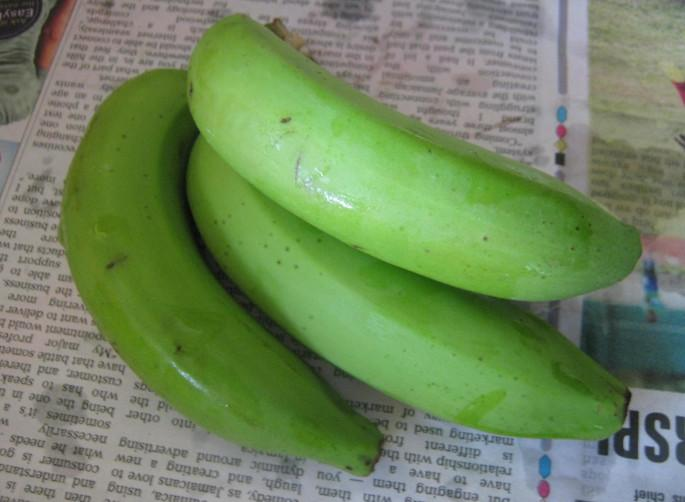Banana Unripe: (30, 12, 680, 490)
